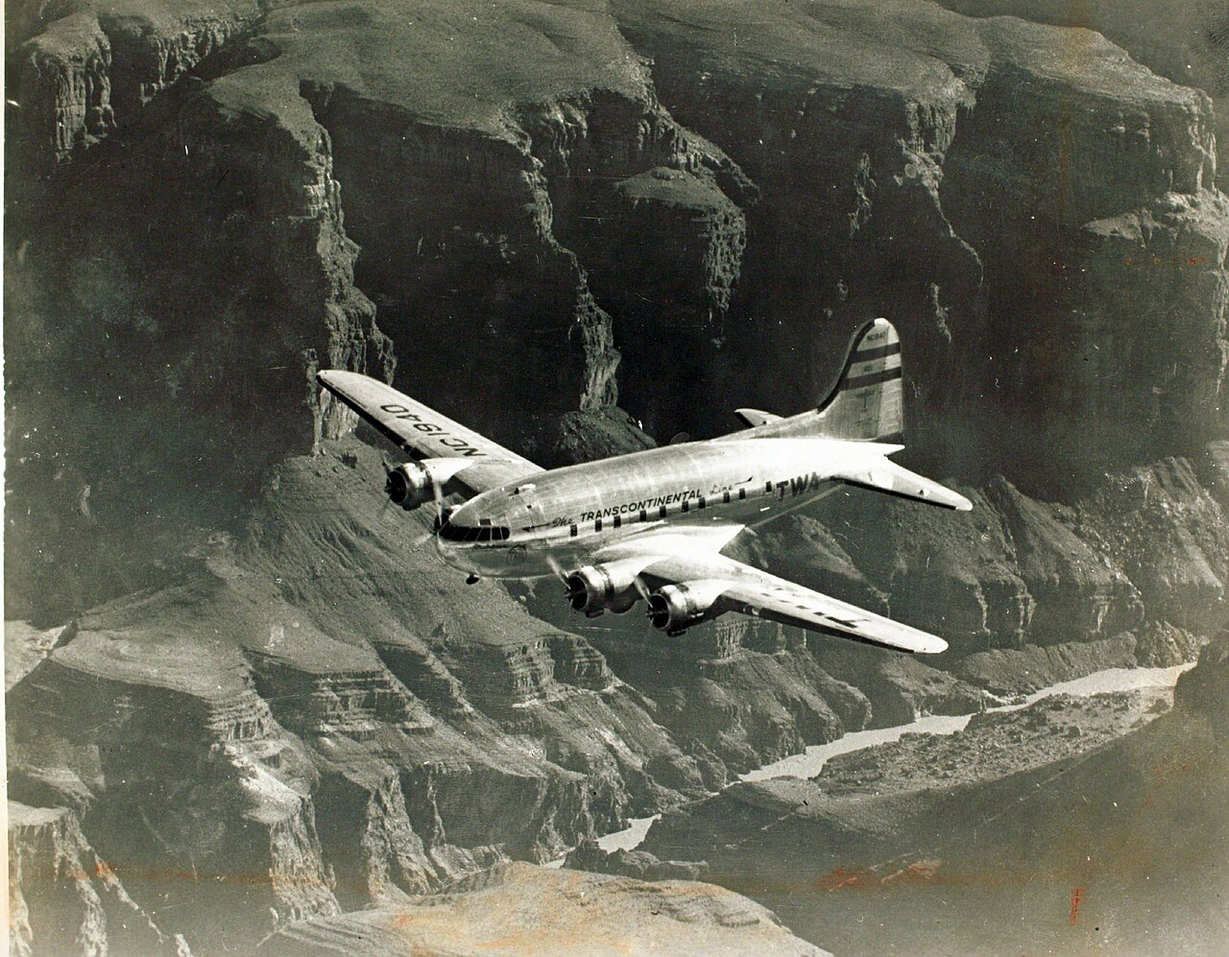aircraft: (316, 317, 973, 653)
